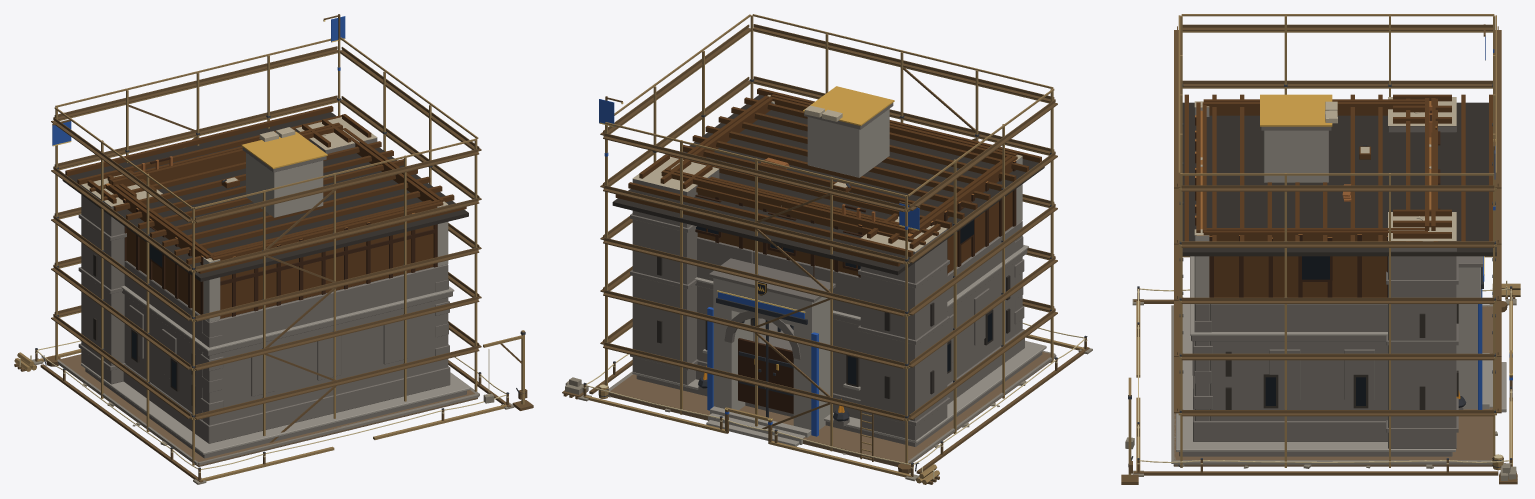
The model's file is 城镇大厅_升级2.glb.
The picture shows the model from 3 angles, left to right: view 1: azimuth 30°, elevation 25°; view 2: azimuth 150°, elevation 25°; view 3: azimuth 270°, elevation 25°; orthographic projection. The views are drawn at different scales.
Visible parts, largest first — view 1: KH-主体, KH-team; view 2: KH-主体, KH-team, KH-自发光; view 3: KH-主体, KH-自发光, KH-team.
Part boxes in pixels (x1,y1,x2,y2): KH-主体: (14, 14, 533, 484); KH-team: (52, 16, 345, 145); KH-主体: (562, 14, 1092, 484); KH-team: (599, 99, 919, 436); KH-自发光: (696, 220, 992, 412); KH-主体: (1121, 14, 1520, 484); KH-自发光: (1265, 256, 1460, 405); KH-team: (1478, 36, 1512, 409).
Bounding box in the file's own units: 16.29 × 12.6 × 14.18.
4 materials, 2 textured.
